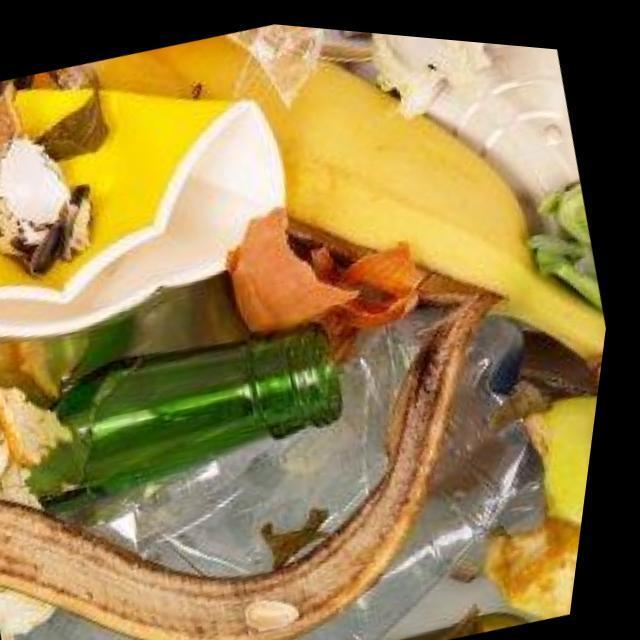Garbage: (0, 20, 613, 640)
contaminated_waste: (272, 294, 563, 640), (145, 299, 455, 568), (41, 317, 354, 510)
